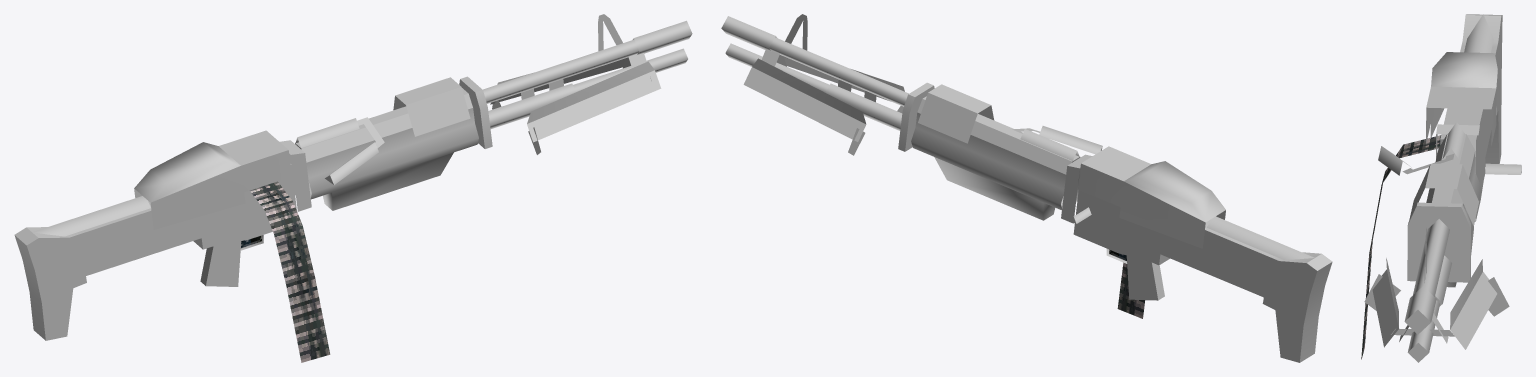
The picture shows the model from 3 angles, left to right: view 1: azimuth 30°, elevation 25°; view 2: azimuth 150°, elevation 25°; view 3: azimuth 270°, elevation 25°; orthographic projection. The views are drawn at different scales.
Parts seen in each view (by area): view 1: M60; view 2: M60; view 3: M60.
Boxes of the visible parts, box(x1,y1,x2,y2) form: M60: box(14, 14, 692, 362); M60: box(721, 14, 1332, 362); M60: box(1361, 14, 1521, 362).
Size of the model in its own units: 23.11 by 8.64 by 3.9.
